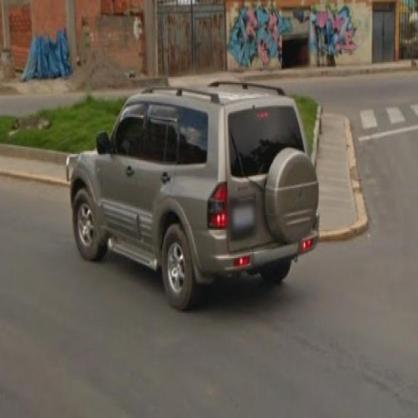car: (68, 78, 320, 315)
